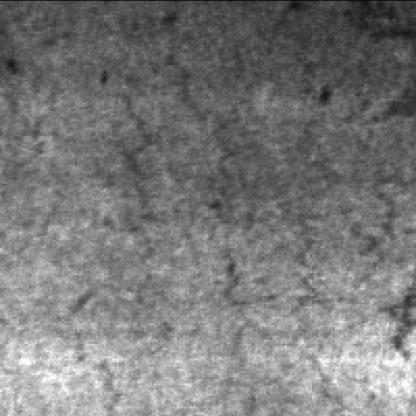crazing: (73, 18, 264, 410), (298, 110, 400, 404)
